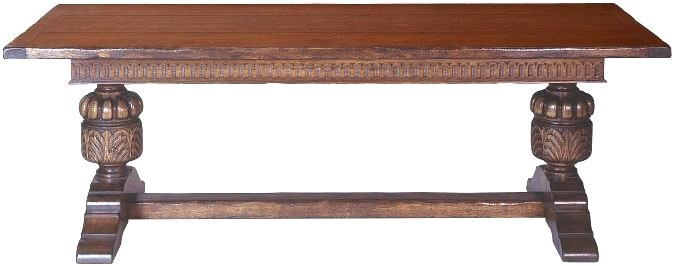obstacle: (0, 0, 406, 263), (126, 83, 546, 192), (577, 0, 674, 263), (115, 219, 560, 263)
